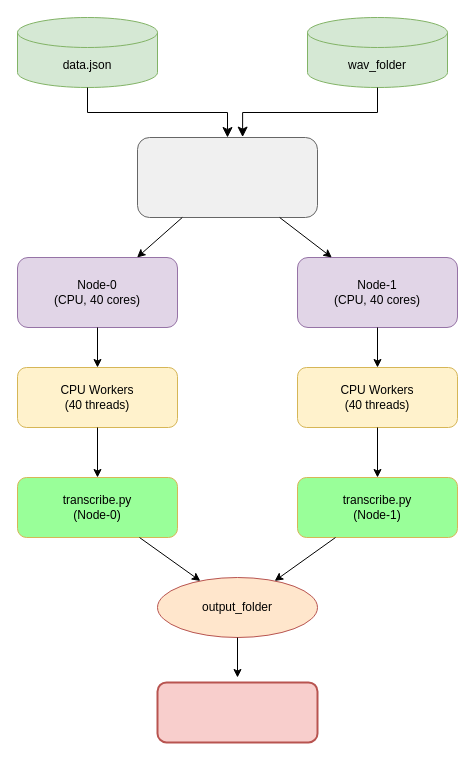
Image size: 475x761. Some labels were removed from this diagram. The shapes that lost their labels are listed below. From the top down, each one's centre as x and y in pixels, then its label:
At (227,177): "transcribe_distributed.py CPU-only slices".
At (237,712): "finetune_bert.py (every 50 .txt)".
